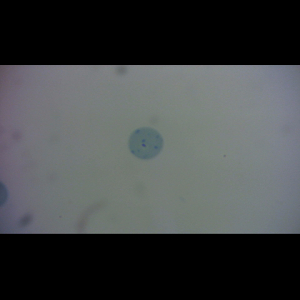punctate reticulocyte: (127, 125, 165, 161)
